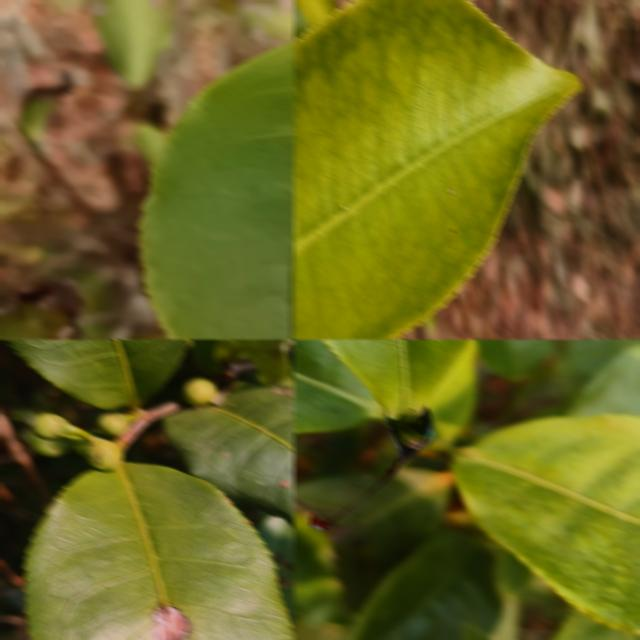Leaf: (293, 0, 581, 339), (24, 462, 295, 640), (138, 41, 295, 339), (451, 414, 640, 632), (163, 384, 295, 527), (346, 528, 502, 640), (3, 339, 191, 409), (91, 0, 171, 89), (565, 342, 640, 415), (293, 513, 343, 621), (256, 515, 295, 630), (219, 339, 295, 385), (559, 339, 640, 379), (476, 339, 554, 378), (190, 339, 224, 373), (293, 0, 337, 26)
